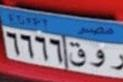6: (49, 38, 64, 63), (34, 36, 48, 60), (6, 32, 18, 55), (21, 34, 32, 58)
qaaf: (68, 42, 87, 68)
raa: (110, 53, 123, 71)
waw: (91, 50, 106, 67)
